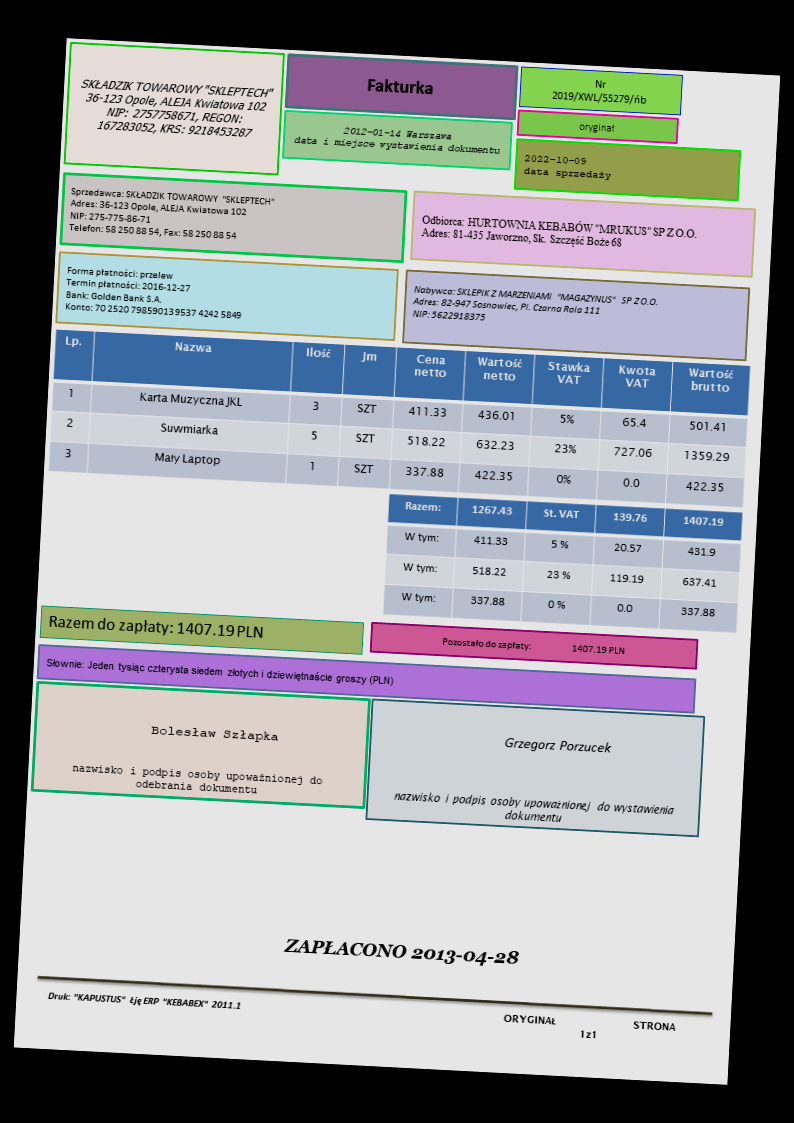Table: (47, 327, 751, 510), (382, 490, 745, 635)
TextBox: (66, 182, 278, 245), (76, 75, 277, 141), (410, 282, 661, 334), (417, 209, 699, 254), (391, 788, 676, 832), (43, 654, 396, 688), (61, 262, 245, 322), (68, 760, 326, 799), (280, 933, 522, 972), (292, 121, 503, 158), (45, 610, 265, 642), (499, 1009, 680, 1047), (45, 987, 243, 1013), (438, 633, 628, 659), (147, 720, 279, 747), (549, 73, 648, 108), (520, 151, 615, 184), (502, 733, 614, 756), (363, 74, 436, 98), (576, 120, 617, 135)
